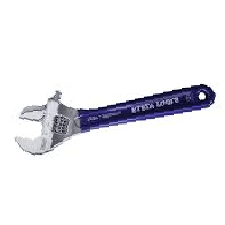Wrench: (9, 78, 224, 162)
